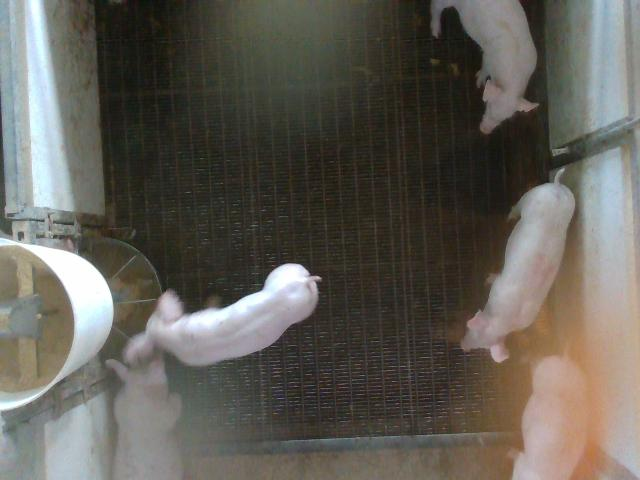pig-4: (461, 174, 575, 362)
